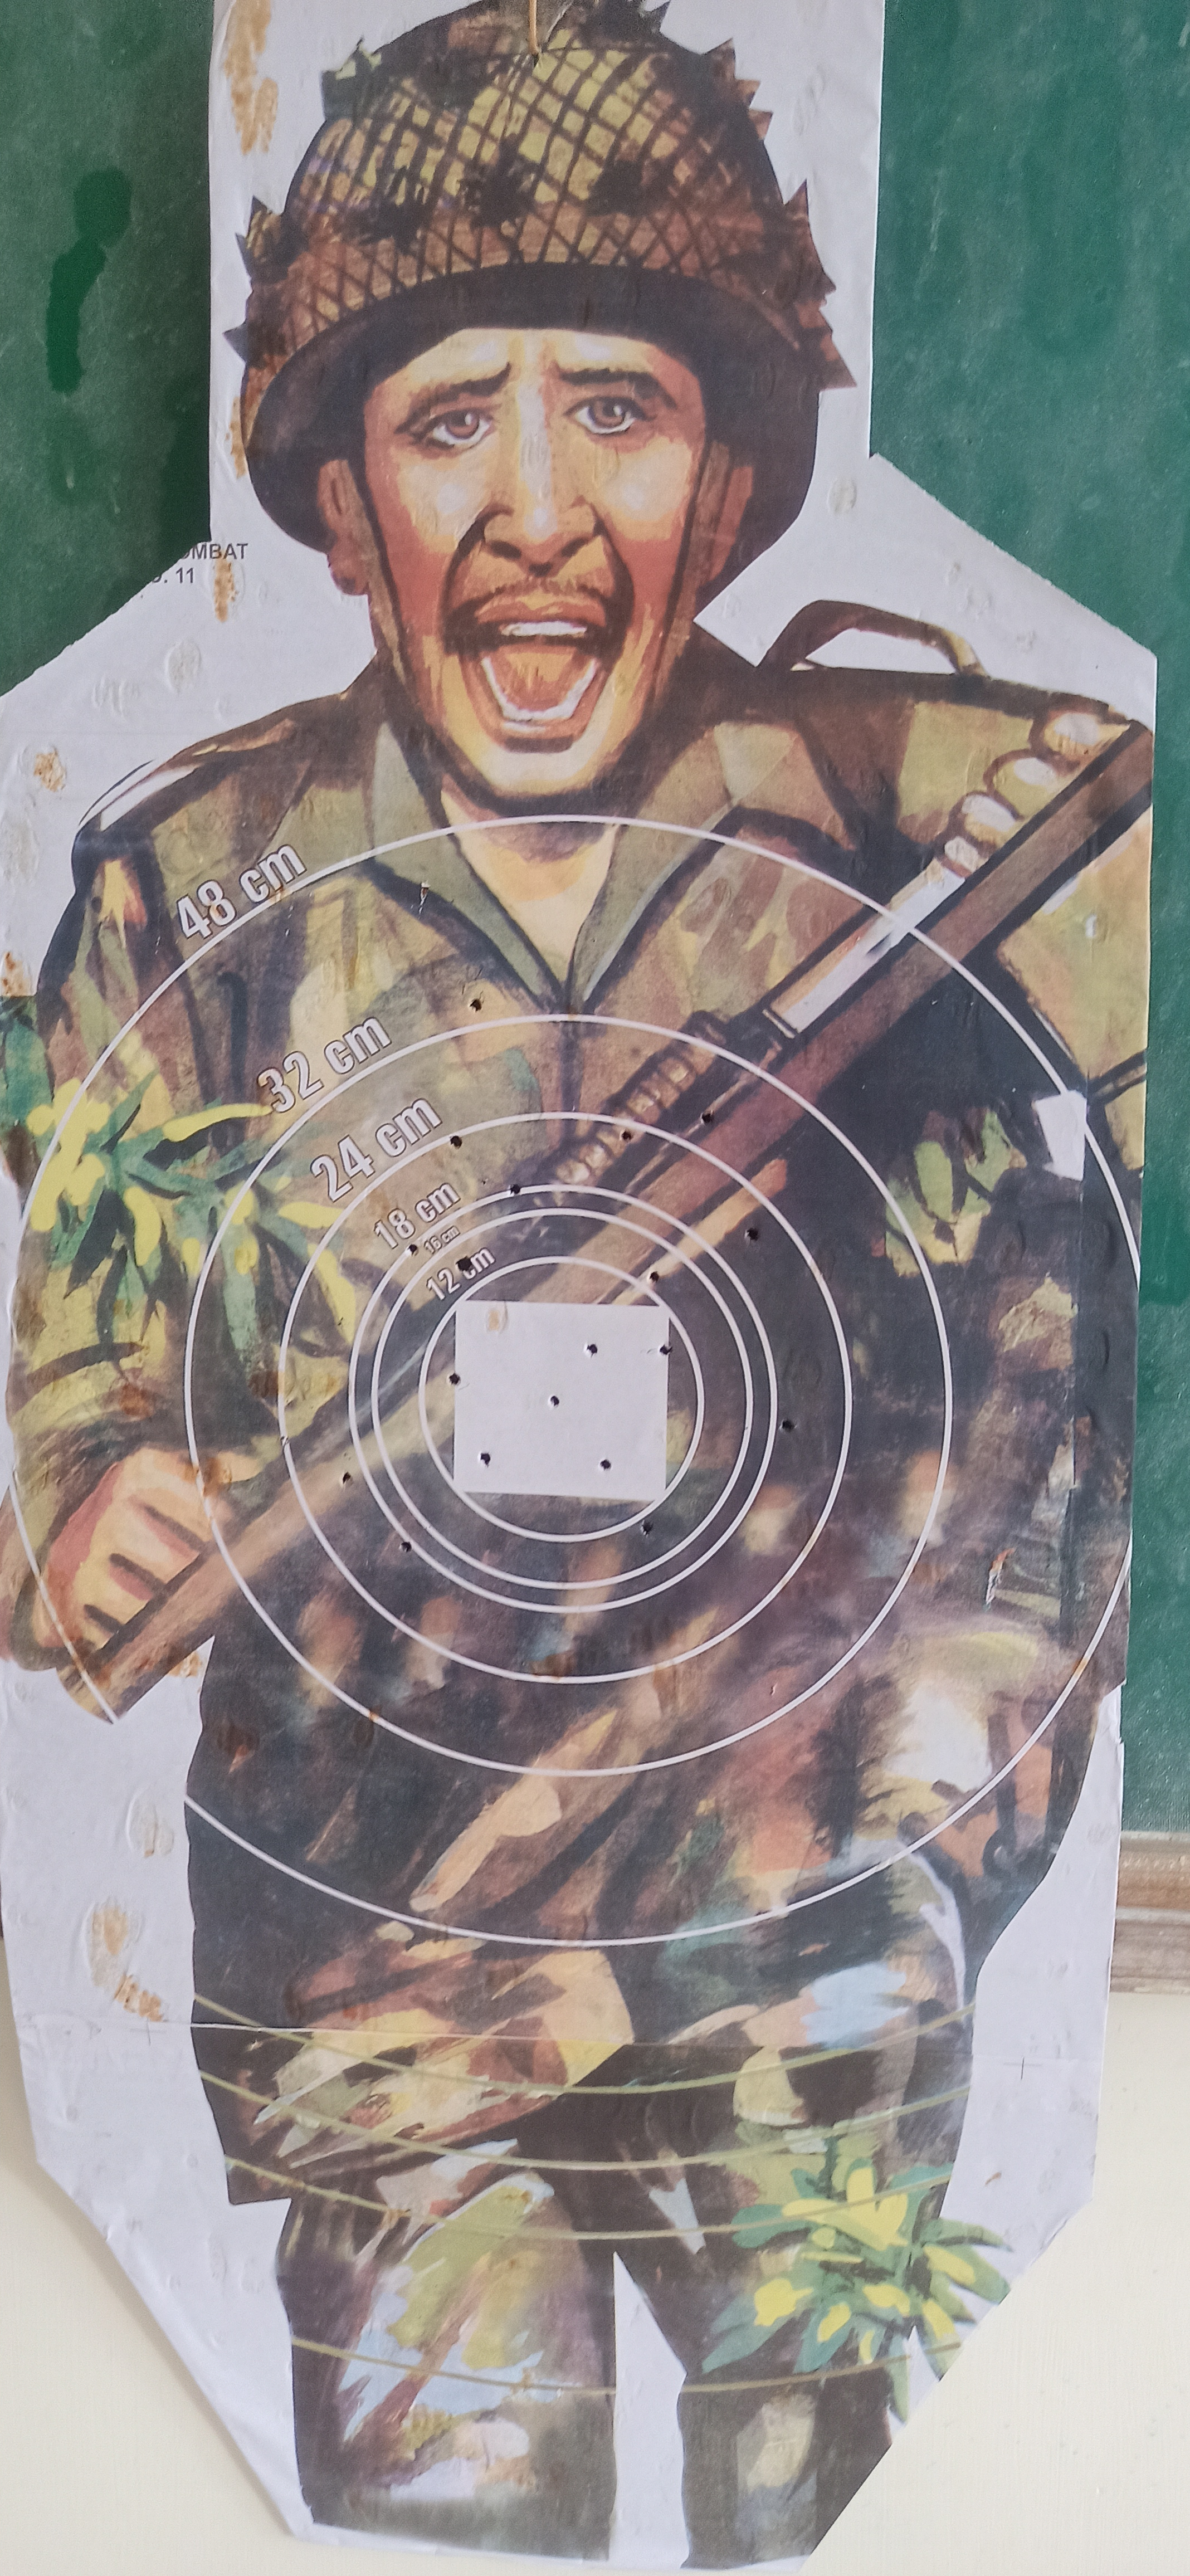bullet hit: (738, 1219, 764, 1249), (694, 1106, 720, 1134), (464, 992, 488, 1020), (452, 1252, 475, 1278), (440, 1130, 468, 1152), (472, 1447, 495, 1472), (394, 1534, 416, 1561), (334, 1467, 355, 1490), (505, 1180, 524, 1204), (546, 1390, 564, 1416), (776, 1416, 797, 1437), (643, 1265, 662, 1288), (638, 1516, 657, 1539), (616, 1124, 634, 1148), (582, 1339, 603, 1359), (445, 1368, 464, 1391), (597, 1454, 615, 1477), (654, 1341, 676, 1357), (404, 1240, 422, 1258)
white box: (455, 1298, 676, 1500)
